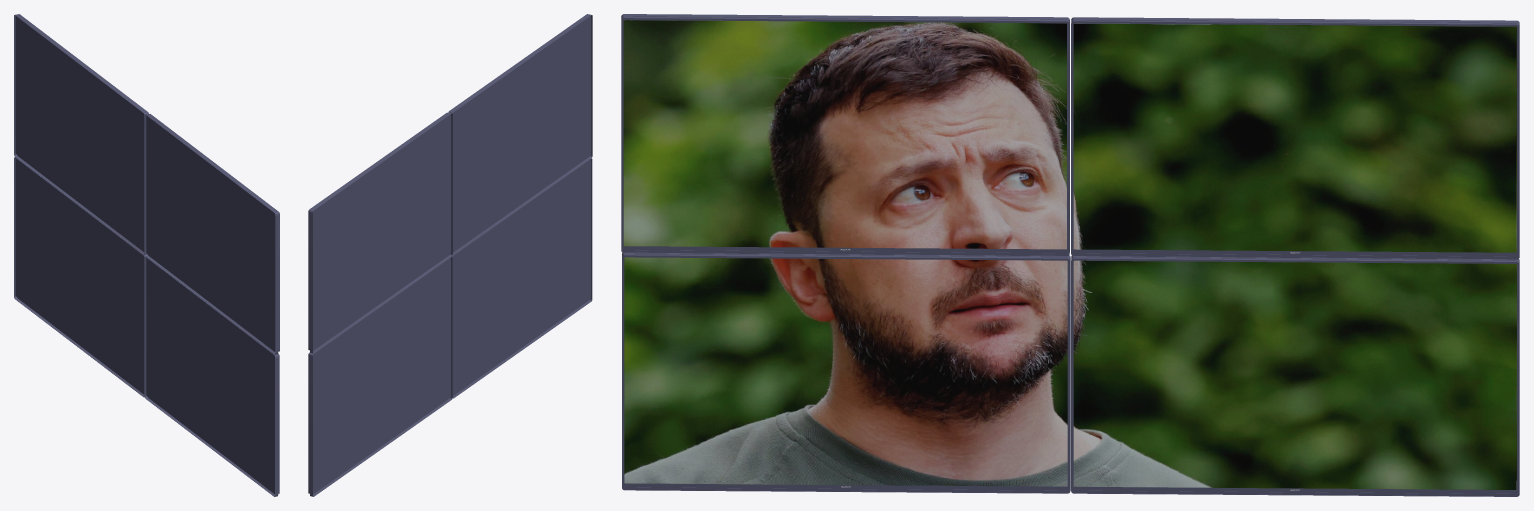
3 views of the same model, side by side, from view 1: azimuth 30°, elevation 25°; view 2: azimuth 150°, elevation 25°; view 3: azimuth 270°, elevation 25° (orthographic). The views are drawn at different scales.
Visible parts, largest first — view 1: merge6; view 2: merge6; view 3: merge6.
Part boxes in pixels (box(x1,y1,x2,y2)): merge6: box(14, 14, 279, 496); merge6: box(308, 14, 592, 496); merge6: box(621, 14, 1519, 496).
Size of the model in its own units: 0.134 by 2.83 by 4.86.
Materials: 4 (1 with a texture image).
